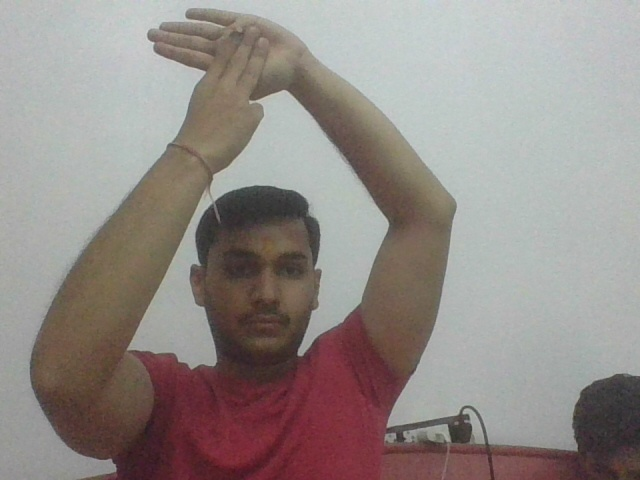M: (146, 6, 298, 143)
